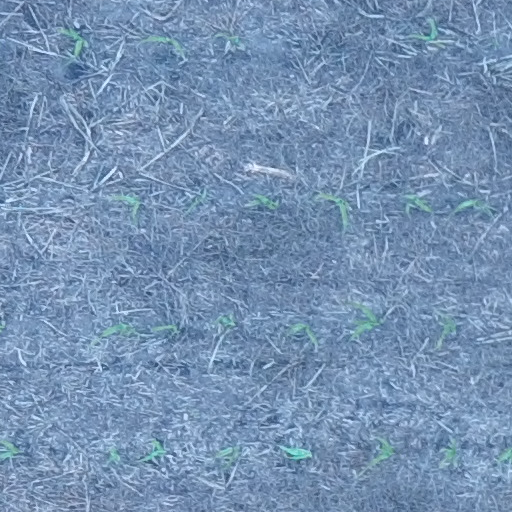planta: (350, 303, 384, 338), (317, 192, 348, 227), (90, 322, 135, 345), (111, 194, 142, 226), (55, 26, 84, 56), (142, 34, 184, 54), (367, 437, 395, 466), (288, 321, 319, 345), (402, 193, 434, 216), (412, 16, 437, 41), (140, 439, 166, 463), (215, 445, 241, 469), (454, 198, 490, 212), (252, 194, 280, 209), (439, 441, 456, 465), (284, 447, 313, 460), (440, 316, 457, 336), (215, 314, 237, 329), (152, 323, 180, 334)
